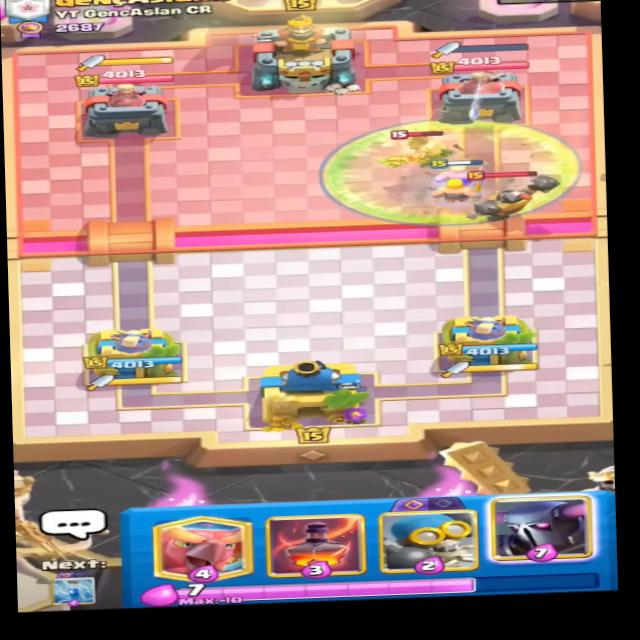mega-knight: (448, 167, 556, 228)
phoenix: (359, 126, 490, 182)
